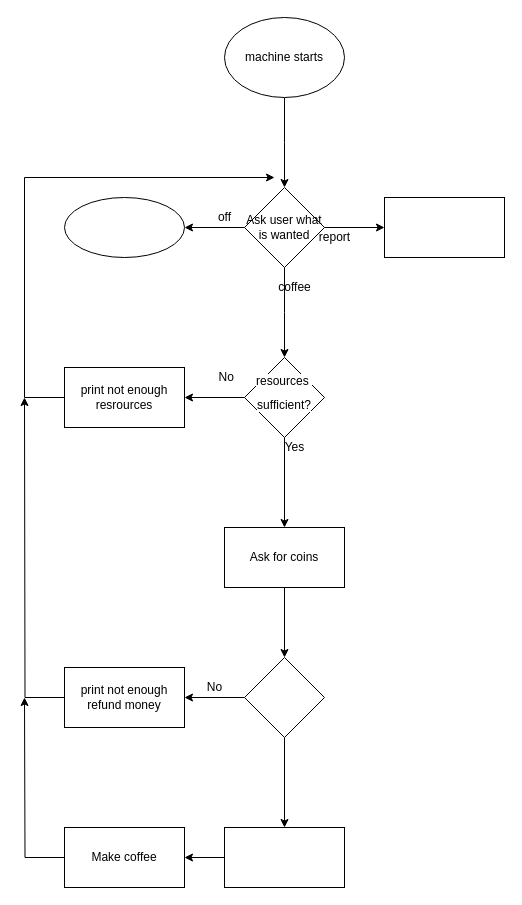
Image size: 522x905. Some labels were removed from this diagram. The shapes that lost their labels are listed below. From the top down, each one's centre as x and y in pixels, then its label:
the point at 124,227: Program ends
the point at 444,227: generate report
the point at 284,697: Enough money?
the point at 284,857: Offer coffee and change if necessary
